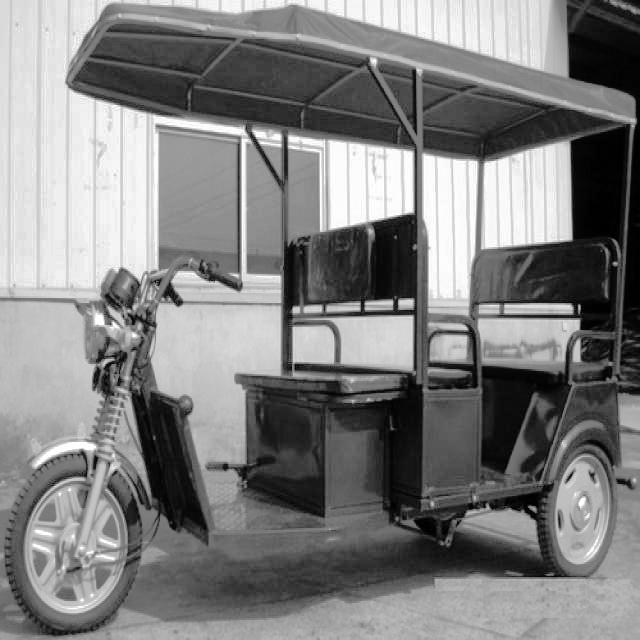Toto: (14, 5, 632, 603)
